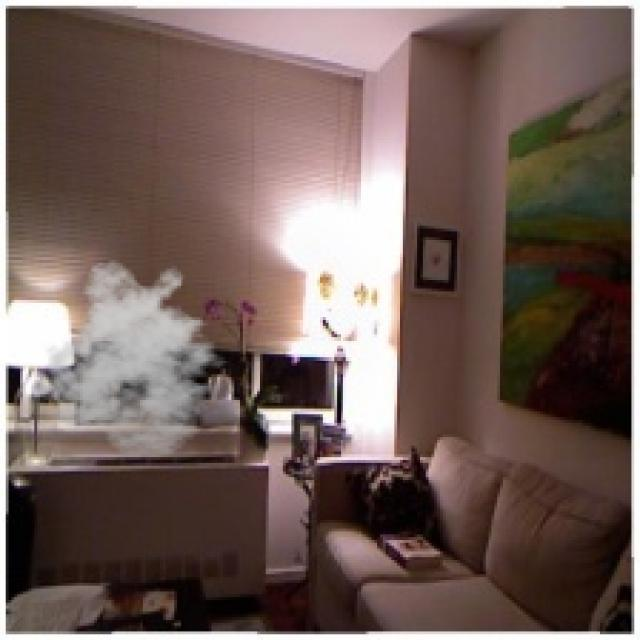Smoke: (37, 260, 240, 460)
